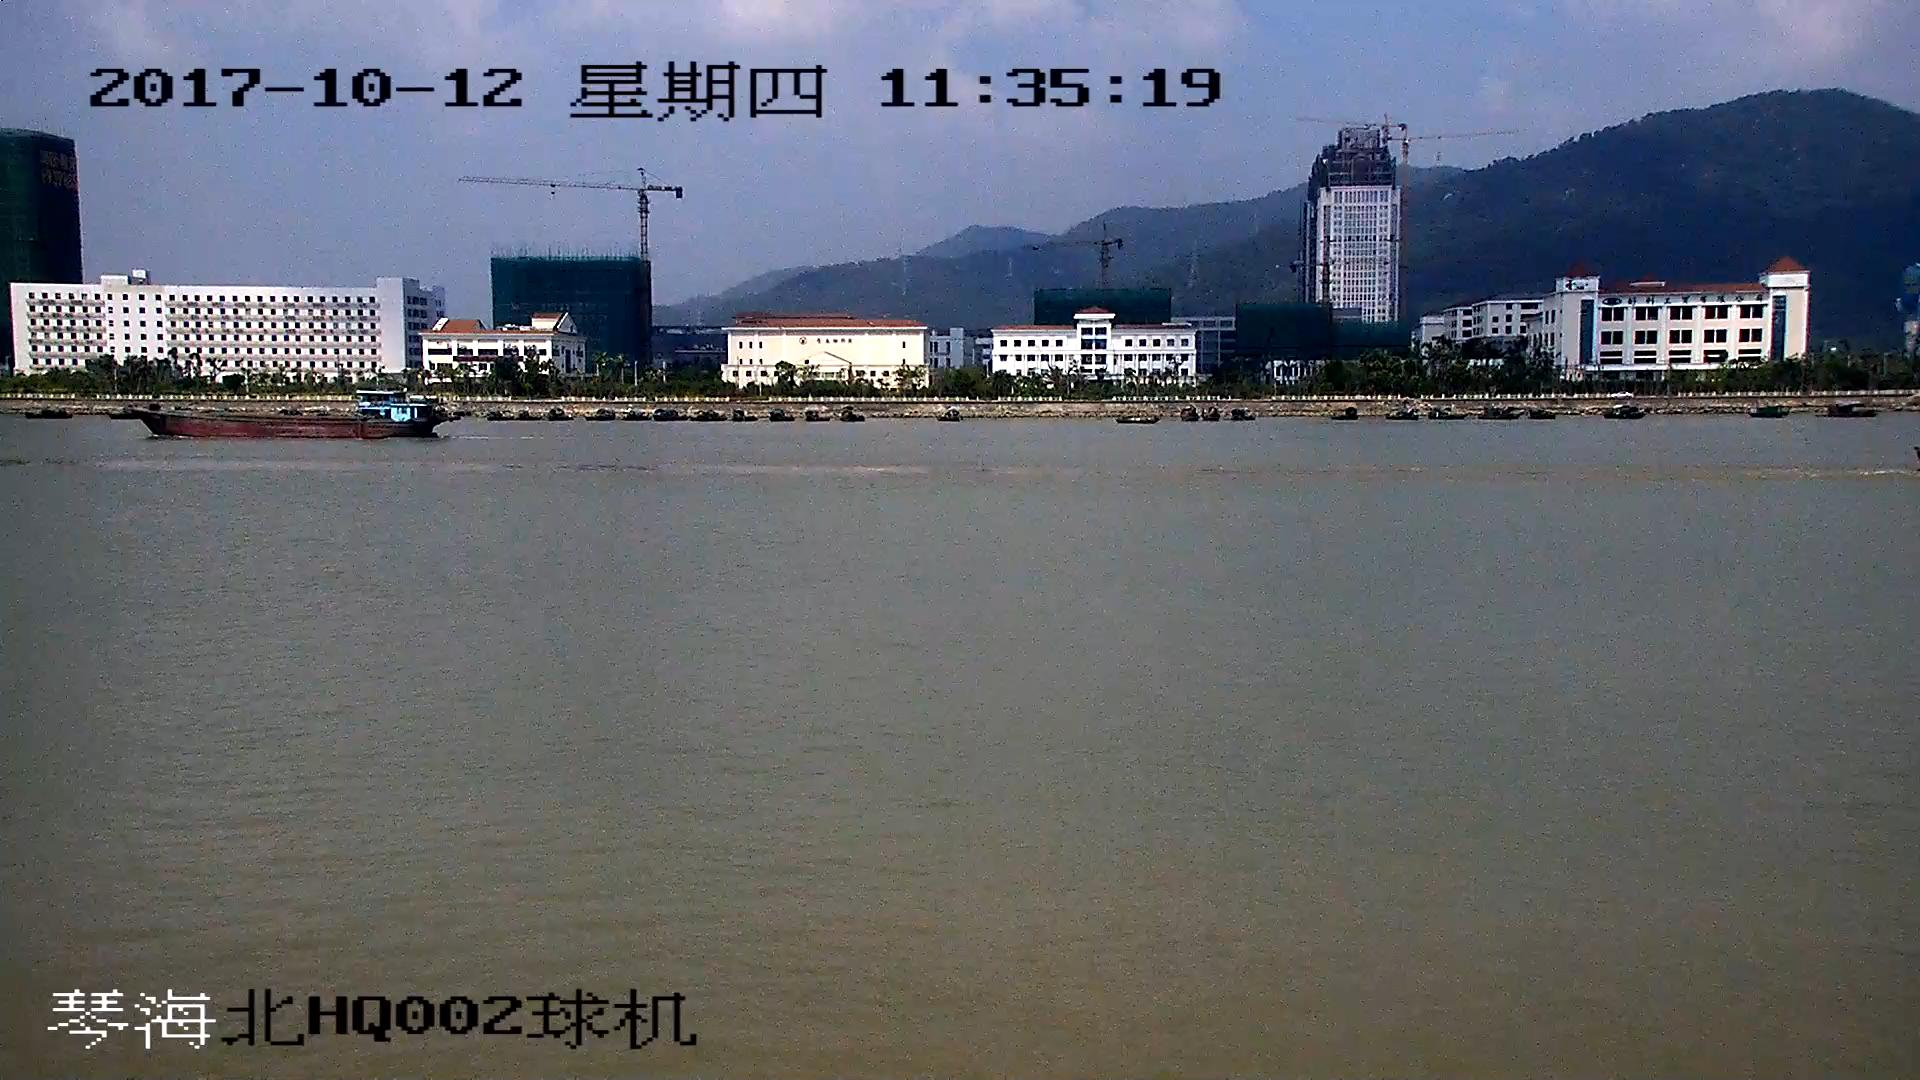bulk cargo carrier: (134, 388, 438, 440)
